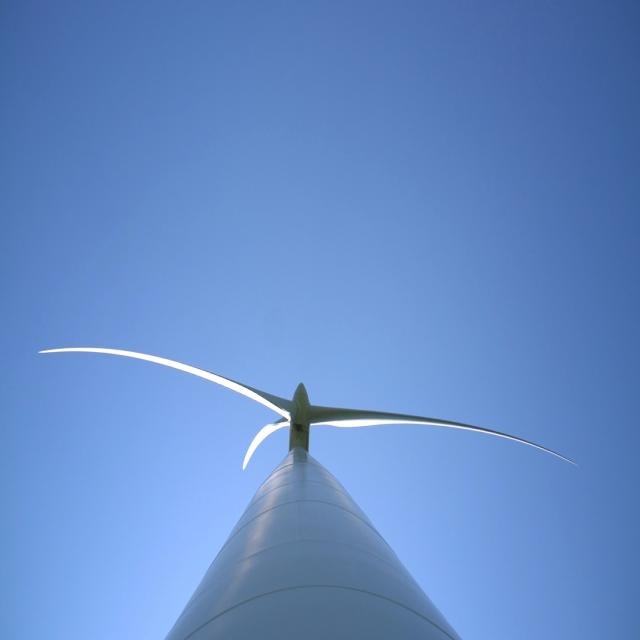blade 1: (334, 368, 584, 468)
blade 2: (206, 418, 282, 476)
blade 3: (39, 323, 250, 410)
